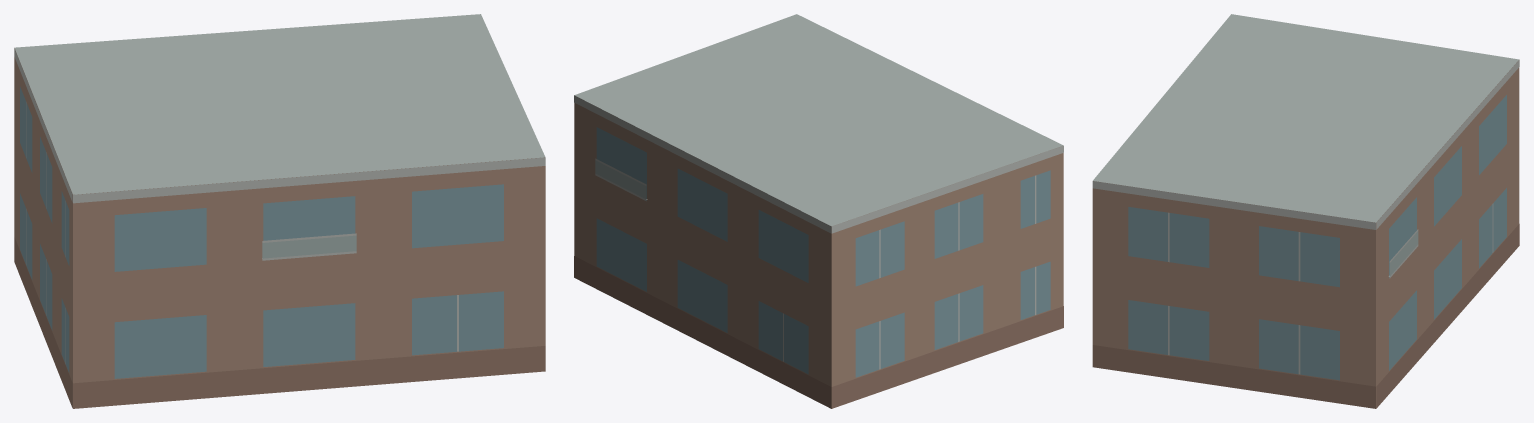
File: survey-upis-33035474.glb
The picture shows the model from 3 angles, left to right: view 1: azimuth 30°, elevation 25°; view 2: azimuth 150°, elevation 25°; view 3: azimuth 270°, elevation 25°; orthographic projection. The views are drawn at different scales.
Visible parts, largest first — view 1: survey-upis-33035474.tmp; view 2: survey-upis-33035474.tmp; view 3: survey-upis-33035474.tmp.
Boxes of the visible parts, x1,y1,x2,y2 form: survey-upis-33035474.tmp: [14, 14, 545, 408]; survey-upis-33035474.tmp: [574, 14, 1063, 408]; survey-upis-33035474.tmp: [1092, 14, 1519, 408].
Size of the model in its own units: 14.66 by 6.1 by 12.68.
